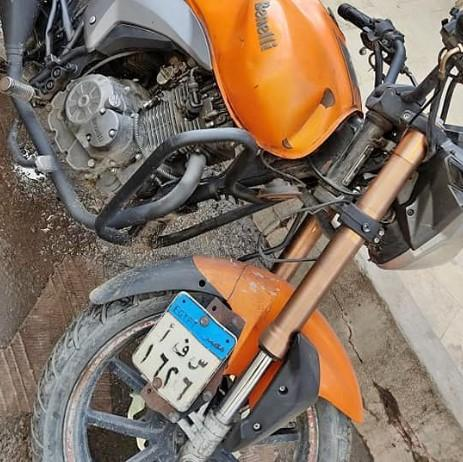License Plate: (122, 289, 242, 405)
